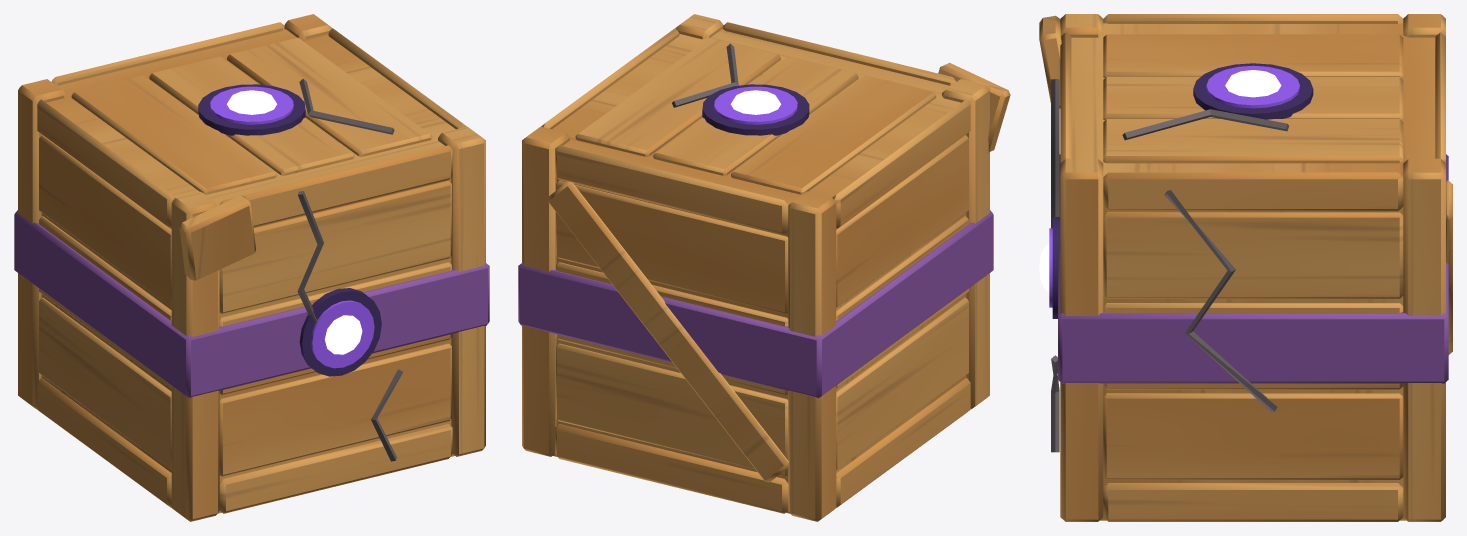
Rendered from haki_cache_damaged.glb.
3 views of the same model, side by side, from view 1: azimuth 30°, elevation 25°; view 2: azimuth 150°, elevation 25°; view 3: azimuth 270°, elevation 25° (orthographic). The views are drawn at different scales.
Visible parts, largest first — view 1: haki_cache_damaged; view 2: haki_cache_damaged; view 3: haki_cache_damaged.
Boxes of the visible parts, x1=… form: haki_cache_damaged: x1=14, y1=14, x2=489, y2=521; haki_cache_damaged: x1=518, y1=14, x2=1010, y2=521; haki_cache_damaged: x1=1039, y1=14, x2=1452, y2=521.
Bounding box in the file's own units: 0.9553 × 0.9482 × 0.9659.
Materials: 6 (1 with a texture image).
